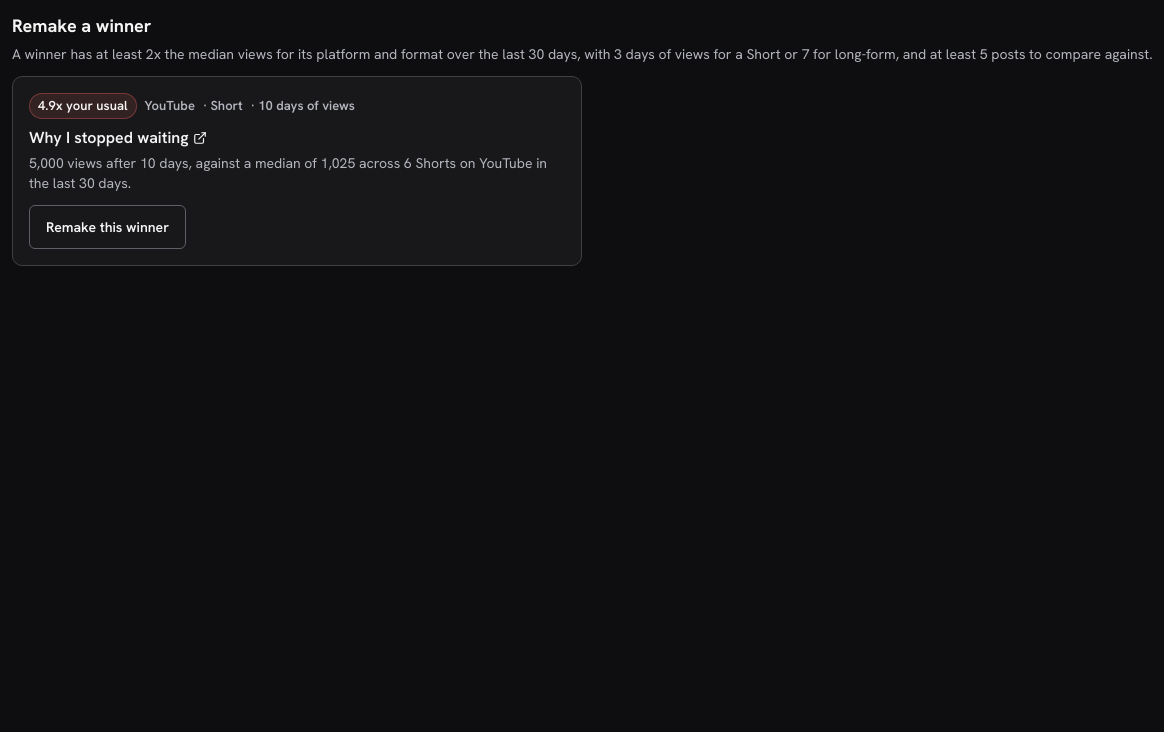
Scenario: winners panel: remake › an archived remake does not count as already made
What coordinates should you click on to do the following:
click the button "Remake this winner"
I would click on:
 (108, 226)
Its box is [29,204,186,248].
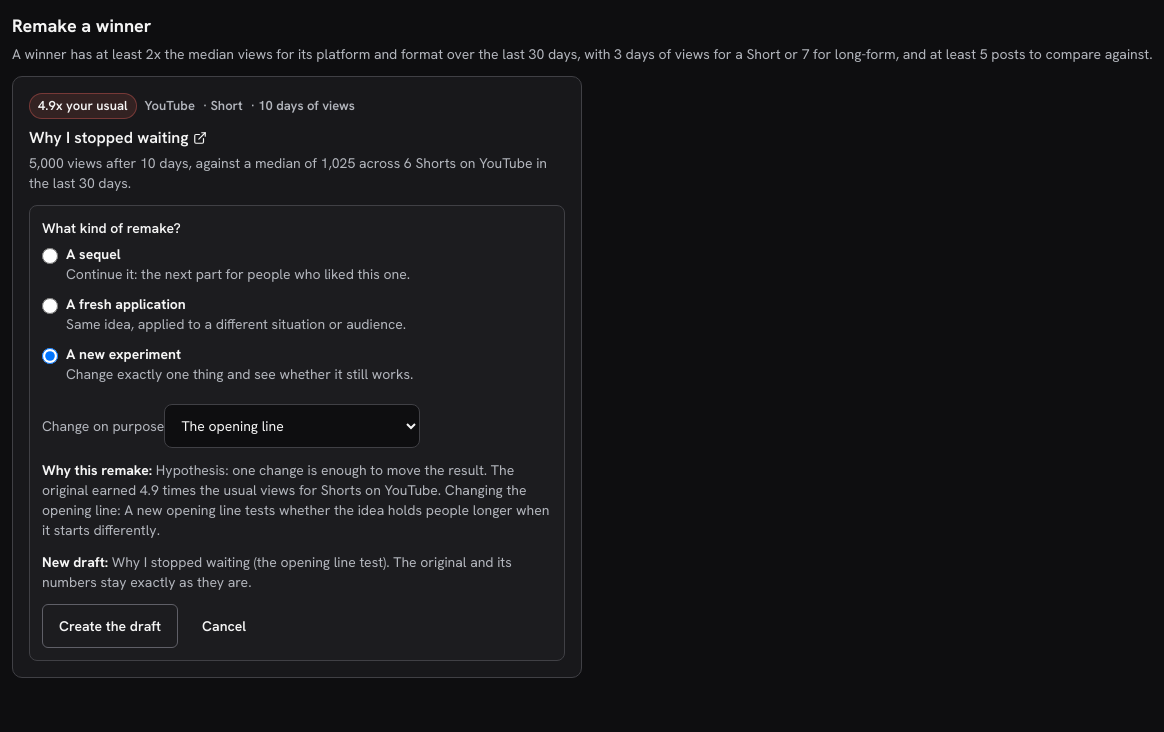
Result: the button "Create the draft" is shown at [42,604,178,648]
